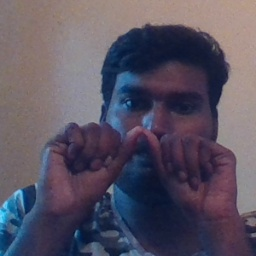A: (69, 118, 214, 218)
